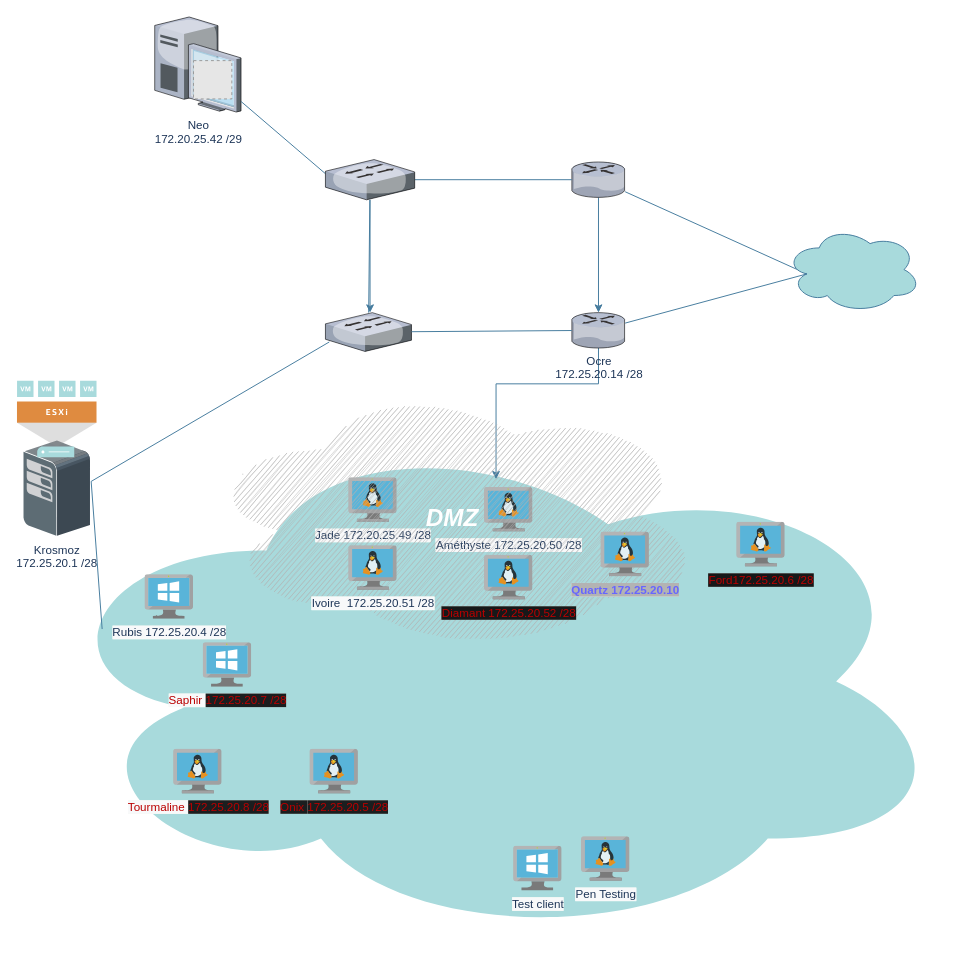
Some shapes in this 967 by 959 pixel diagram are drawn without their labels. Grey dashed boxes stand in for pictures. The shapes that lost their labels are listed below. From the top down, each one's centre as x and y in pixels, then its label:
point 369,179: Emeraude 172.25.20.2 /28
point 598,179: Turquoise 172.25.20.12 /28
point 852,269: Baie de brassage Extérieure
point 368,331: Pourpre 172.25.20.3 /28
